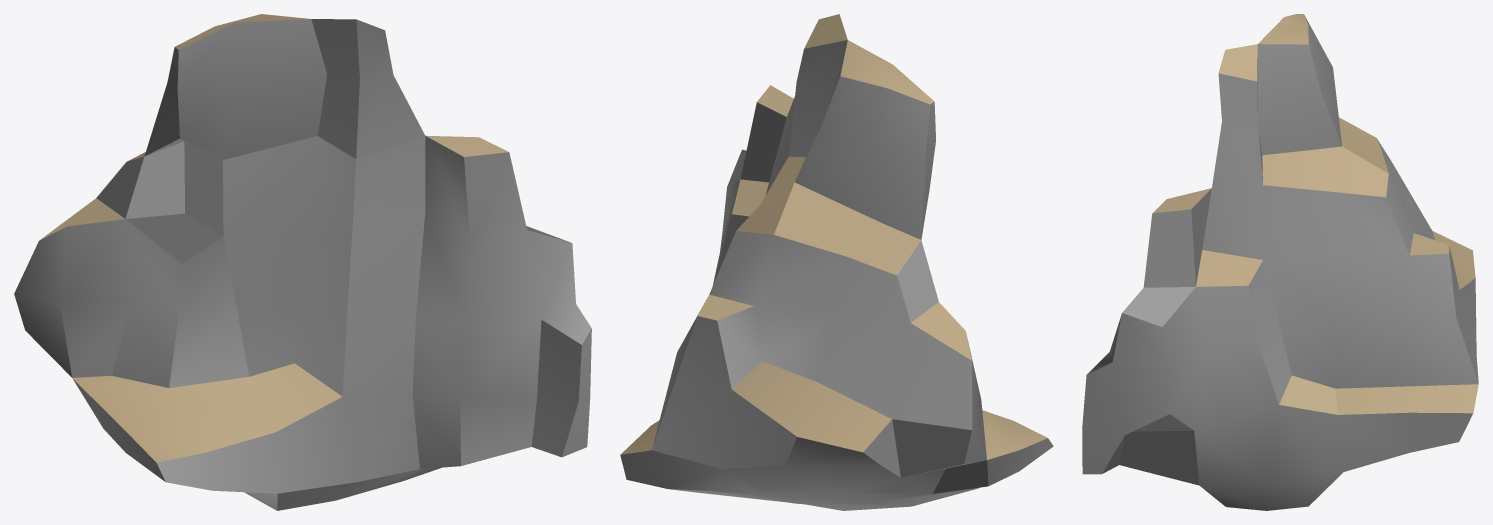
Rendered from rock19.glb.
The picture shows the model from 3 angles, left to right: view 1: azimuth 30°, elevation 25°; view 2: azimuth 150°, elevation 25°; view 3: azimuth 270°, elevation 25°; orthographic projection. The views are drawn at different scales.
Visible parts, largest first — view 1: rock.026_0; view 2: rock.026_0; view 3: rock.026_0.
Boxes of the visible parts, bbox=[...] form: rock.026_0: bbox=[14, 14, 591, 510]; rock.026_0: bbox=[620, 14, 1053, 510]; rock.026_0: bbox=[1082, 14, 1478, 510].
Size of the model in its own units: 8.34 by 9.5 by 8.15.
